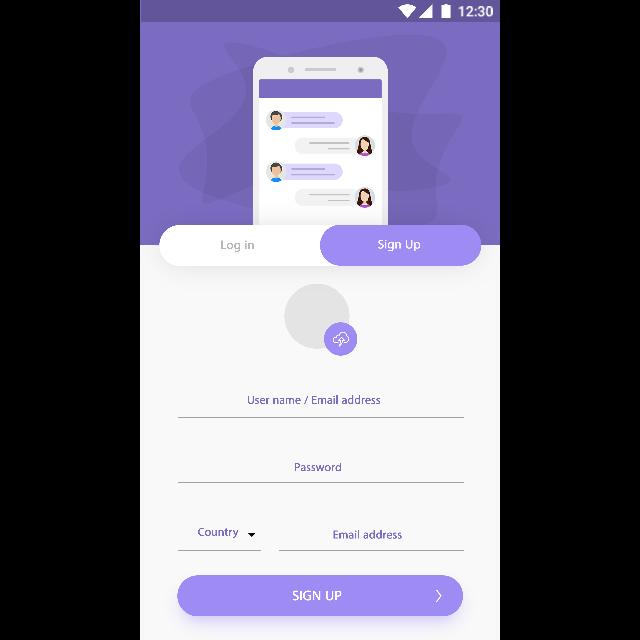image: (252, 57, 388, 225), (284, 284, 358, 356)
input: (178, 396, 464, 418), (178, 463, 464, 483), (279, 530, 463, 550), (178, 528, 262, 550)
text: (248, 396, 380, 404), (295, 462, 341, 472)
textbutton: (178, 576, 462, 616), (320, 224, 482, 266), (160, 226, 320, 266)
uppertaskbar: (140, 0, 500, 22)
